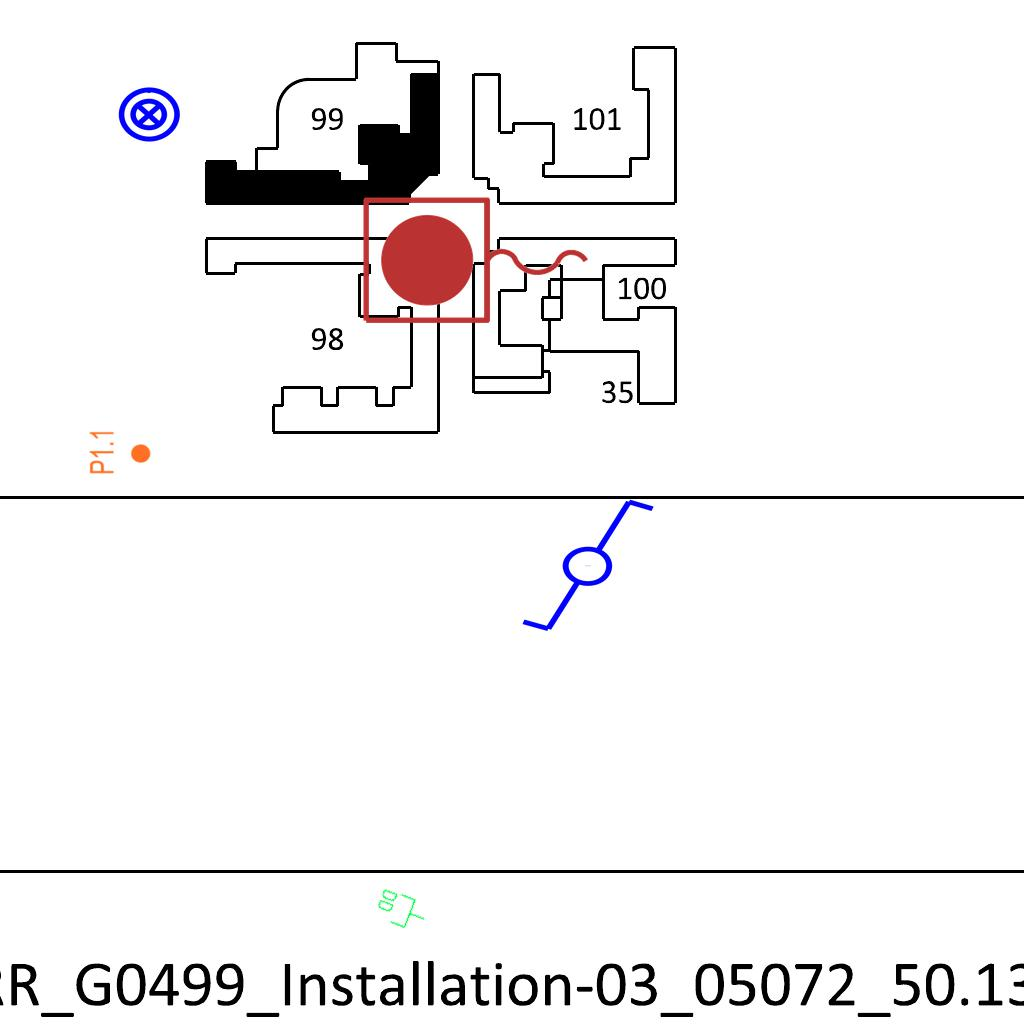Datenanschluss_zweifach: (371, 884, 432, 936)
Downlight_LED_Einbauleuchten_Flur: (88, 429, 152, 475)
Taster_beleuchtet: (116, 82, 182, 148)
Wechselschalter: (501, 492, 658, 636)
Zugtaster: (355, 190, 599, 334)
